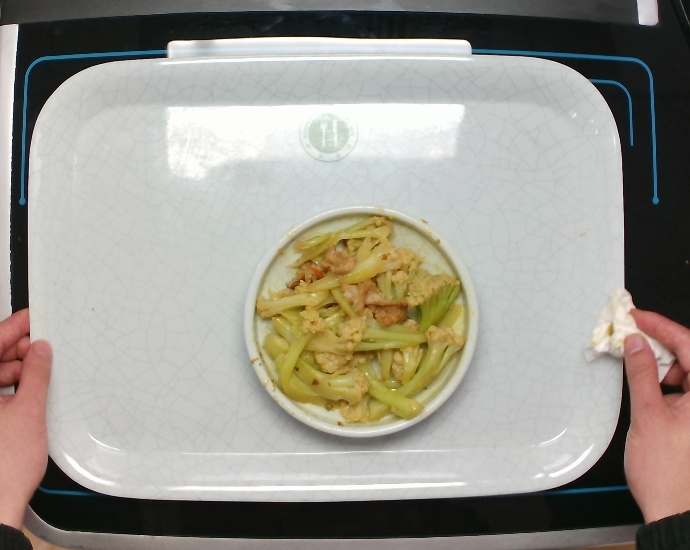JYsf-Xiao_Yuan_Pan: (242, 203, 479, 442)
